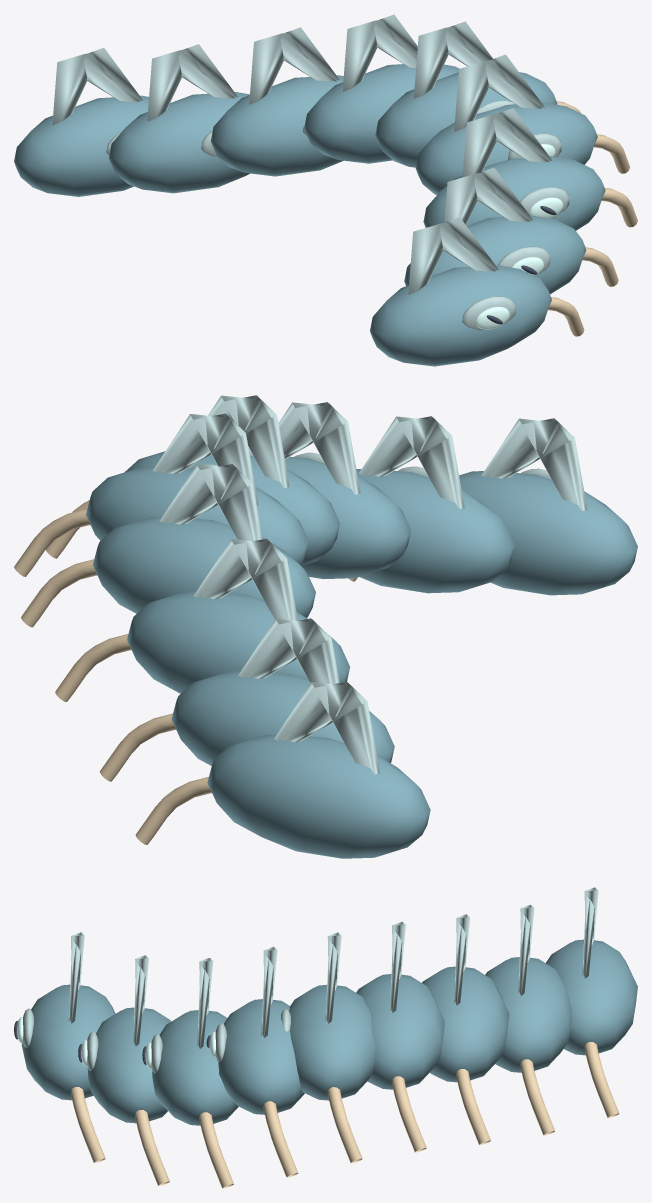
The model's file is bio_ribbon_colony_01_far.glb.
3 renders of one model, top to bottom at view 1: azimuth 30°, elevation 25°; view 2: azimuth 150°, elevation 25°; view 3: azimuth 270°, elevation 25°, orthographic. The views are drawn at different scales.
Visible parts, largest first — view 1: Overlapping folded ribbon, Overlapping folded ribbon.007, Overlapping folded ribbon.008, Overlapping folded ribbon.006, Overlapping folded ribbon.005, Overlapping folded ribbon.003, Overlapping folded ribbon.002, Overlapping folded ribbon.004, Overlapping folded ribbon.001, Raised pleated edge, Raised pleated edge.002, Raised pleated edge.003 (+11 smaller); view 2: Overlapping folded ribbon.008, Overlapping folded ribbon, Overlapping folded ribbon.001, Overlapping folded ribbon.006, Overlapping folded ribbon.005, Overlapping folded ribbon.007, Overlapping folded ribbon.002, Overlapping folded ribbon.004, Raised pleated edge.001, Raised pleated edge, Raised pleated edge.008, Raised pleated edge.006 (+11 smaller); view 3: Overlapping folded ribbon.004, Overlapping folded ribbon.003, Overlapping folded ribbon.005, Overlapping folded ribbon.008, Overlapping folded ribbon.006, Overlapping folded ribbon.007, Overlapping folded ribbon, Overlapping folded ribbon.002, Overlapping folded ribbon.001, Raised pleated edge.002, Raised pleated edge.003, Raised pleated edge.001 (+15 smaller).
Boxes of the visible parts, x1,y1,x2,y2 form: Overlapping folded ribbon: (370,265,551,366); Overlapping folded ribbon.007: (109,92,249,193); Overlapping folded ribbon.008: (14,95,170,196); Overlapping folded ribbon.006: (211,75,343,176); Overlapping folded ribbon.005: (304,64,459,163); Overlapping folded ribbon.003: (415,102,597,194); Overlapping folded ribbon.002: (423,156,605,230); Overlapping folded ribbon.004: (375,72,557,167); Overlapping folded ribbon.001: (404,215,586,294); Raised pleated edge: (408,217,516,330); Raised pleated edge.002: (462,108,569,218); Raised pleated edge.003: (454,54,561,159); Overlapping folded ribbon.008: (207,734,430,858); Overlapping folded ribbon: (459,471,637,595); Overlapping folded ribbon.001: (356,469,515,593); Overlapping folded ribbon.006: (127,591,349,693); Overlapping folded ribbon.005: (93,516,315,617); Overlapping folded ribbon.007: (171,671,394,765); Overlapping folded ribbon.002: (285,456,410,579); Overlapping folded ribbon.004: (86,466,308,565); Raised pleated edge.001: (359,416,464,508); Raised pleated edge: (481,418,587,510); Raised pleated edge.008: (274,681,380,774); Raised pleated edge.006: (194,538,297,620); Overlapping folded ribbon.004: (289,985,375,1100); Overlapping folded ribbon.003: (218,999,304,1114); Overlapping folded ribbon.005: (356,974,444,1089); Overlapping folded ribbon.008: (546,939,637,1055); Overlapping folded ribbon.006: (422,966,509,1082); Overlapping folded ribbon.007: (485,957,571,1072); Overlapping folded ribbon: (21,984,115,1100); Overlapping folded ribbon.002: (152,1010,238,1125); Overlapping folded ribbon.001: (87,1007,170,1123); Raised pleated edge.002: (151,958,213,1073); Raised pleated edge.003: (215,946,277,1062); Raised pleated edge.001: (87,955,148,1070).
Bounding box in the file's own units: 2.53 × 1.19 × 3.04.
